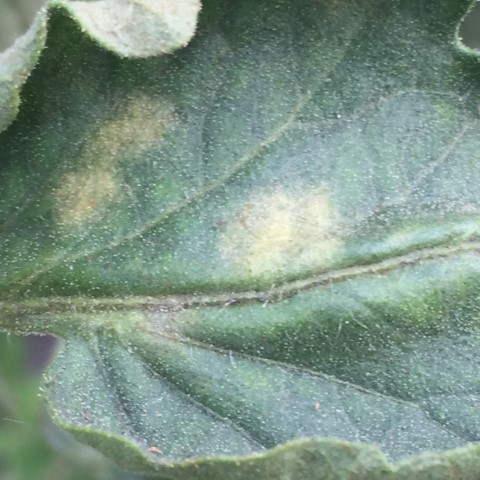blanca: (52, 94, 187, 226), (214, 179, 351, 286)
